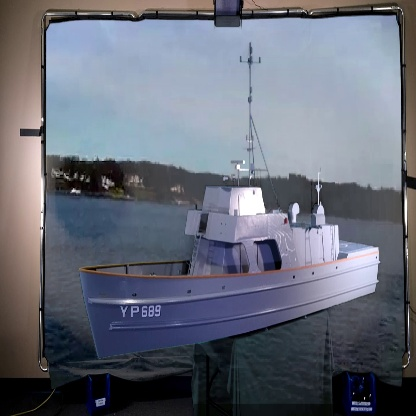YP689: (77, 39, 380, 360)
